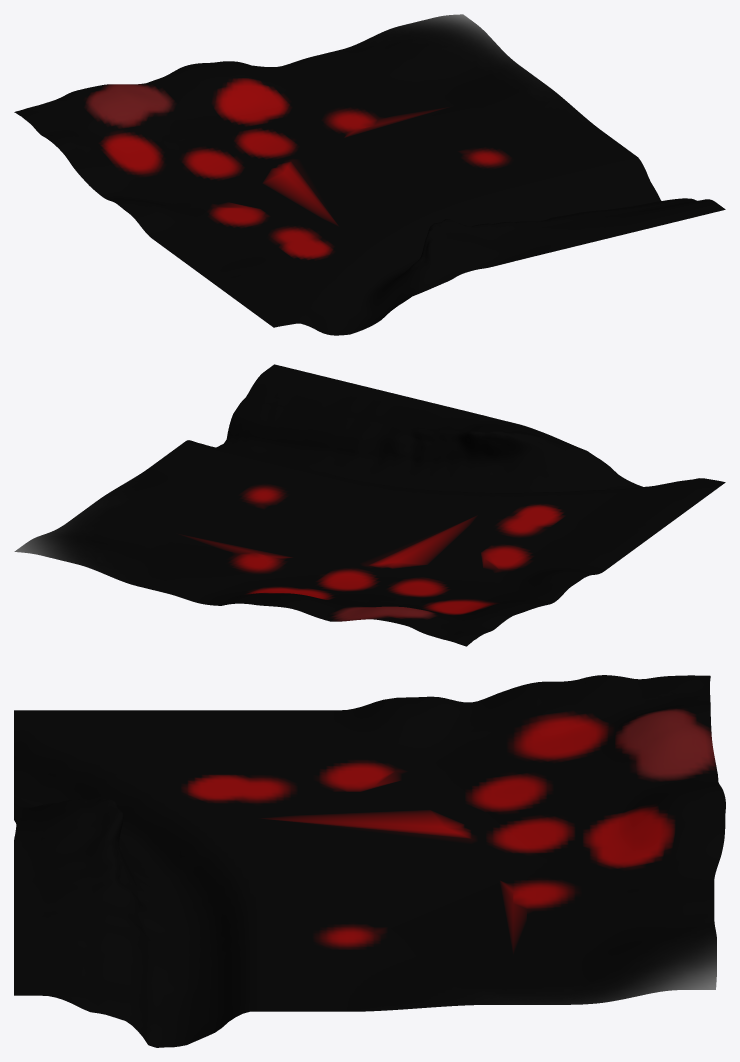
3 views of the same model, one above another, from view 1: azimuth 30°, elevation 25°; view 2: azimuth 150°, elevation 25°; view 3: azimuth 270°, elevation 25° (orthographic). The views are drawn at different scales.
Visible parts, largest first — view 1: River; view 2: River; view 3: River.
Part boxes in pixels (<box>): River: <box>14,14,725,335</box>; River: <box>14,364,725,646</box>; River: <box>14,675,725,1047</box>.
Bounding box in the file's own units: 60.75 × 8.12 × 61.
